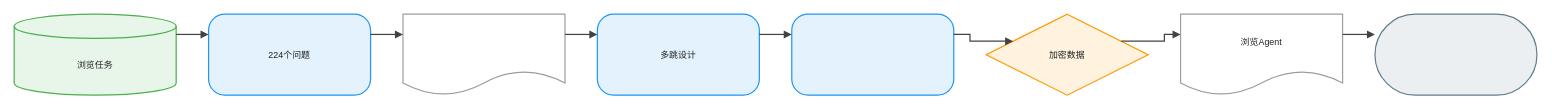
The diagram is 1552 pixels wide and 110 high, and some of its shapes have lost their labels. The centre of each missing label's shape, as x and y in pixels:
准确率: [1455,54]
多模态证据: [483,54]
验证清单: [872,54]
